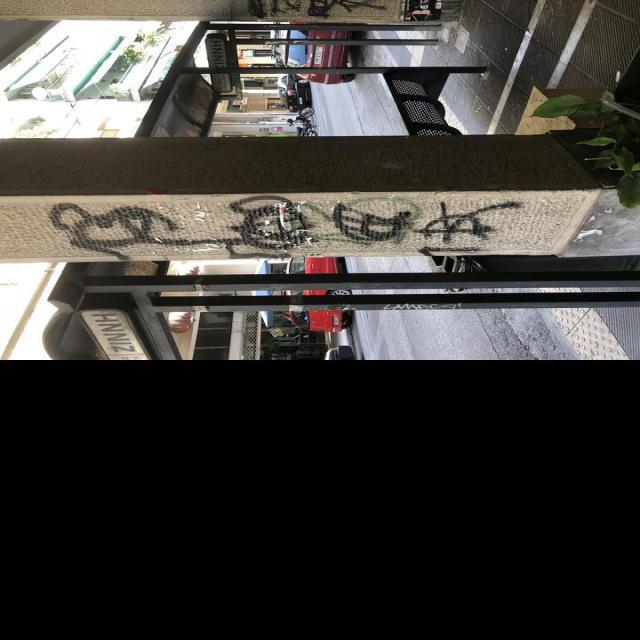nonspitting: (51, 198, 520, 260), (247, 0, 388, 19)
